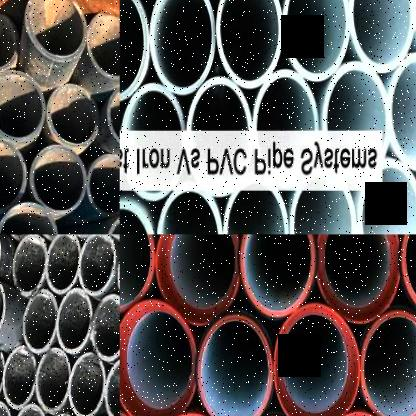pipe: (274, 303, 360, 416), (120, 299, 195, 416), (196, 312, 274, 416), (316, 234, 401, 324), (155, 234, 238, 326), (236, 234, 316, 320), (149, 0, 215, 95), (360, 308, 416, 416), (216, 0, 283, 89), (283, 0, 349, 81), (349, 0, 415, 74), (357, 158, 416, 234), (289, 170, 357, 235), (30, 144, 87, 213), (24, 0, 87, 62), (223, 180, 289, 235), (386, 52, 416, 171), (46, 84, 100, 146), (0, 70, 47, 141), (156, 185, 223, 234), (119, 0, 149, 103), (120, 235, 155, 314), (69, 351, 106, 416), (56, 288, 92, 354), (78, 234, 116, 296), (36, 348, 71, 412), (23, 289, 58, 353), (87, 12, 120, 79), (12, 235, 47, 296), (45, 234, 80, 294), (87, 154, 120, 217), (0, 137, 27, 213), (4, 346, 36, 410), (92, 293, 120, 361), (0, 202, 58, 234), (0, 4, 20, 72), (120, 199, 157, 234), (104, 356, 119, 416), (107, 84, 119, 147), (12, 405, 47, 416), (0, 277, 6, 341), (0, 345, 5, 406)
